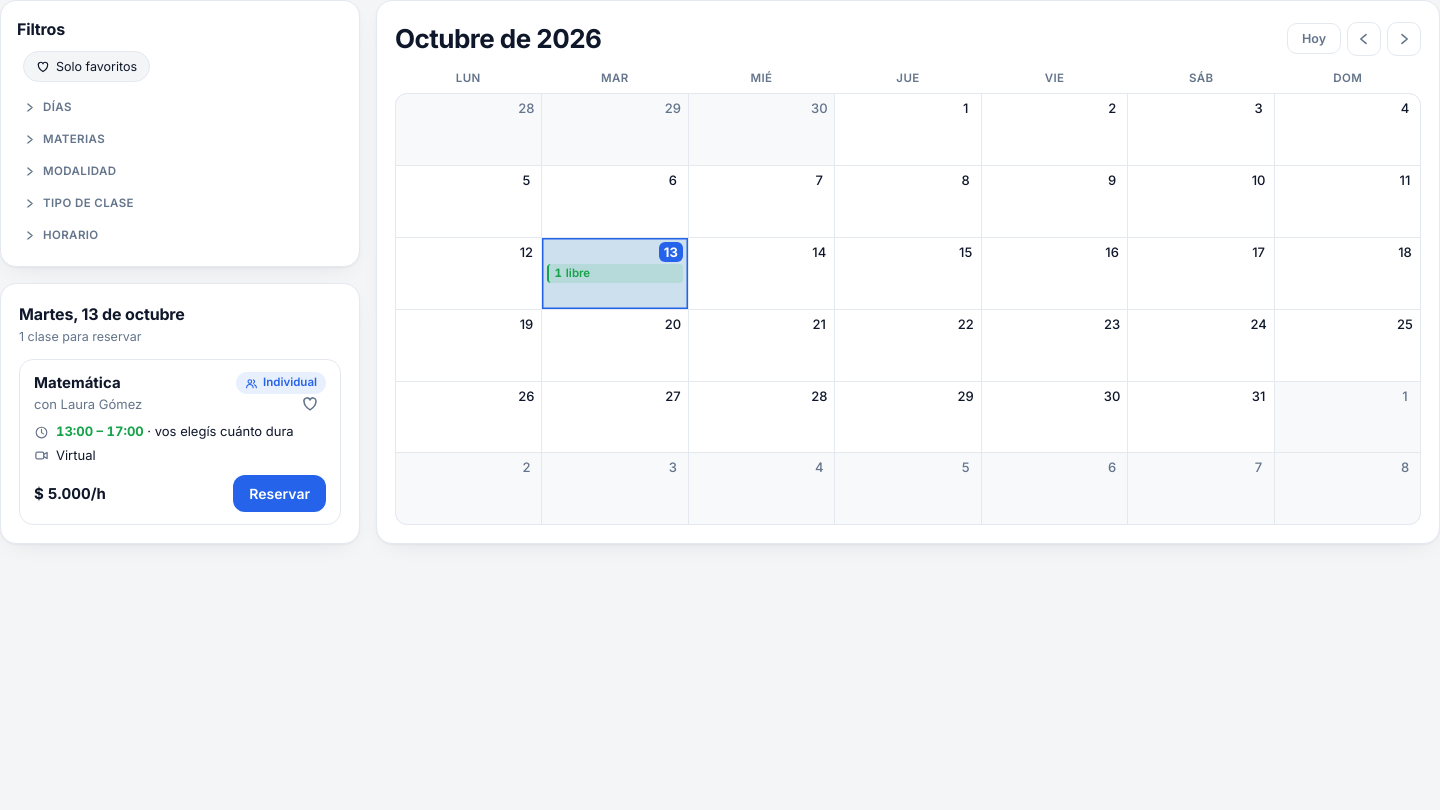
Test: BookingBoard › filtra por día
Expected: the text "13:00 – 17:00" is shown, [56,423,144,439]
Click the button "Días": (30, 107) [17,92,343,122]
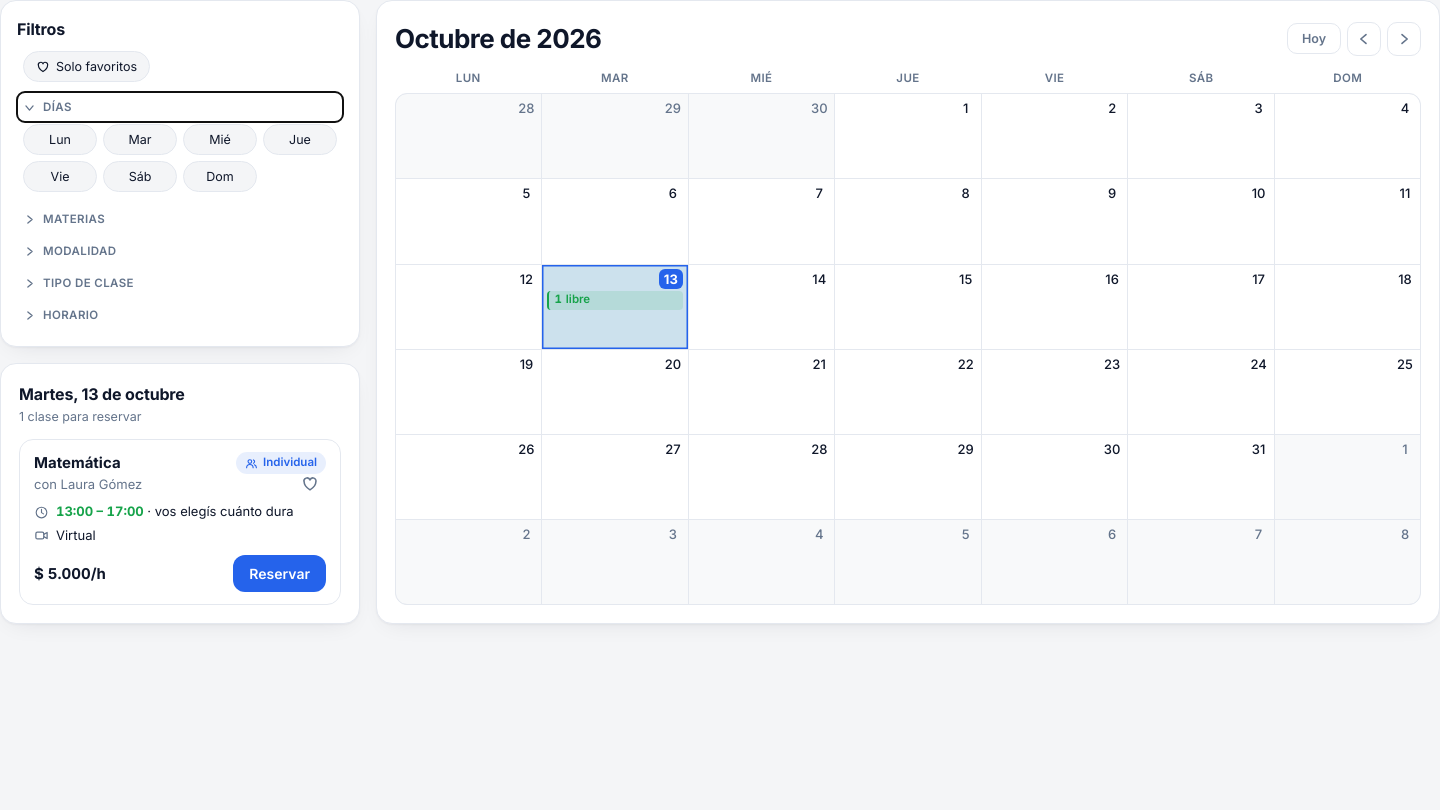
Click the button with aria-label "Lunes": (60, 140) [23,124,97,155]
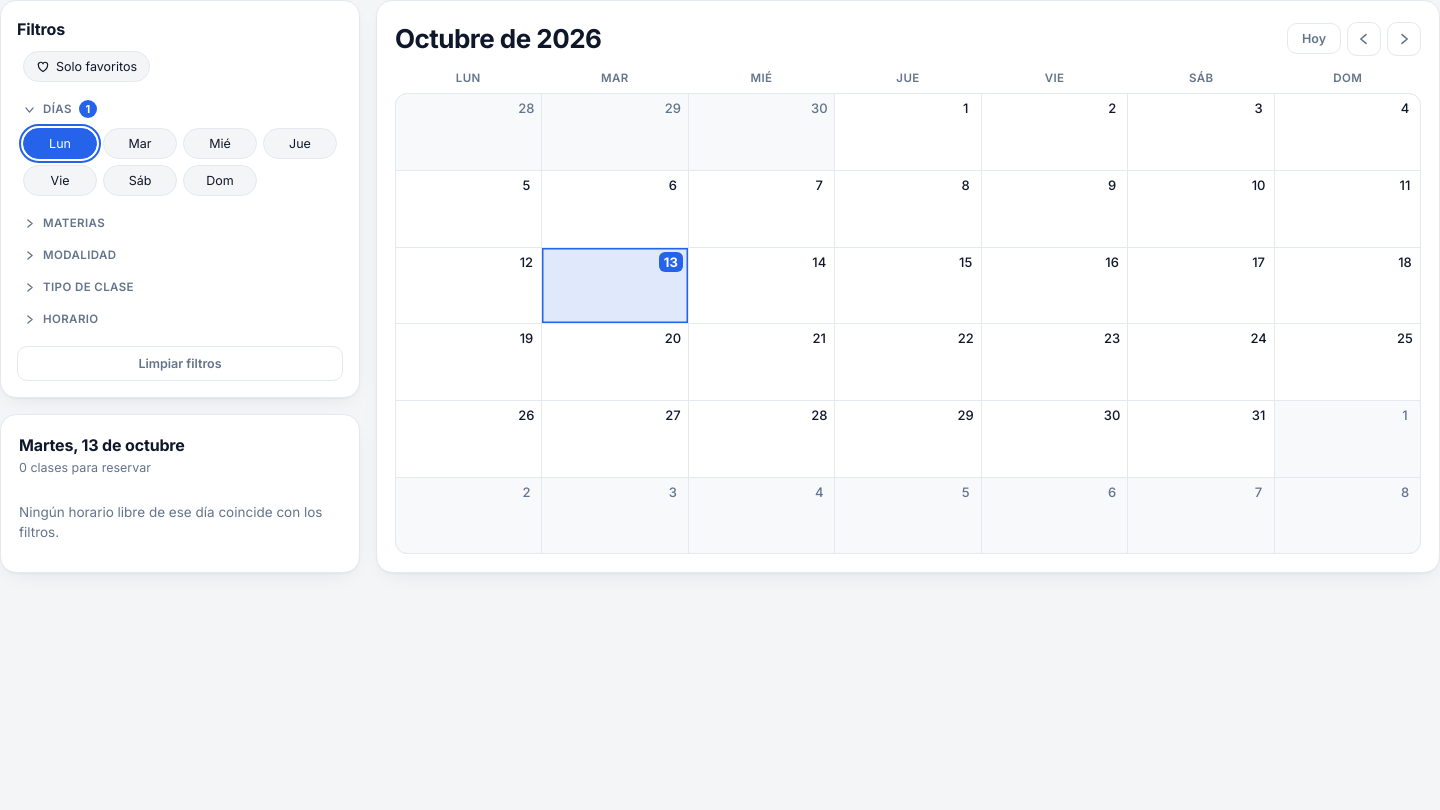
Now the text "13:00 – 17:00" is gone
